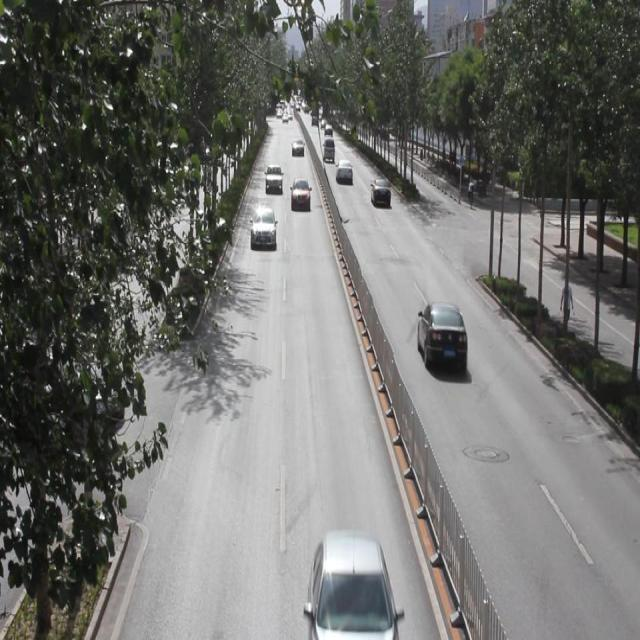car: (307, 528, 397, 640), (416, 298, 468, 375), (250, 205, 275, 245), (370, 176, 391, 208), (290, 177, 310, 210), (264, 163, 284, 195), (336, 158, 354, 184), (292, 138, 304, 156)
truck: (323, 136, 334, 162)
